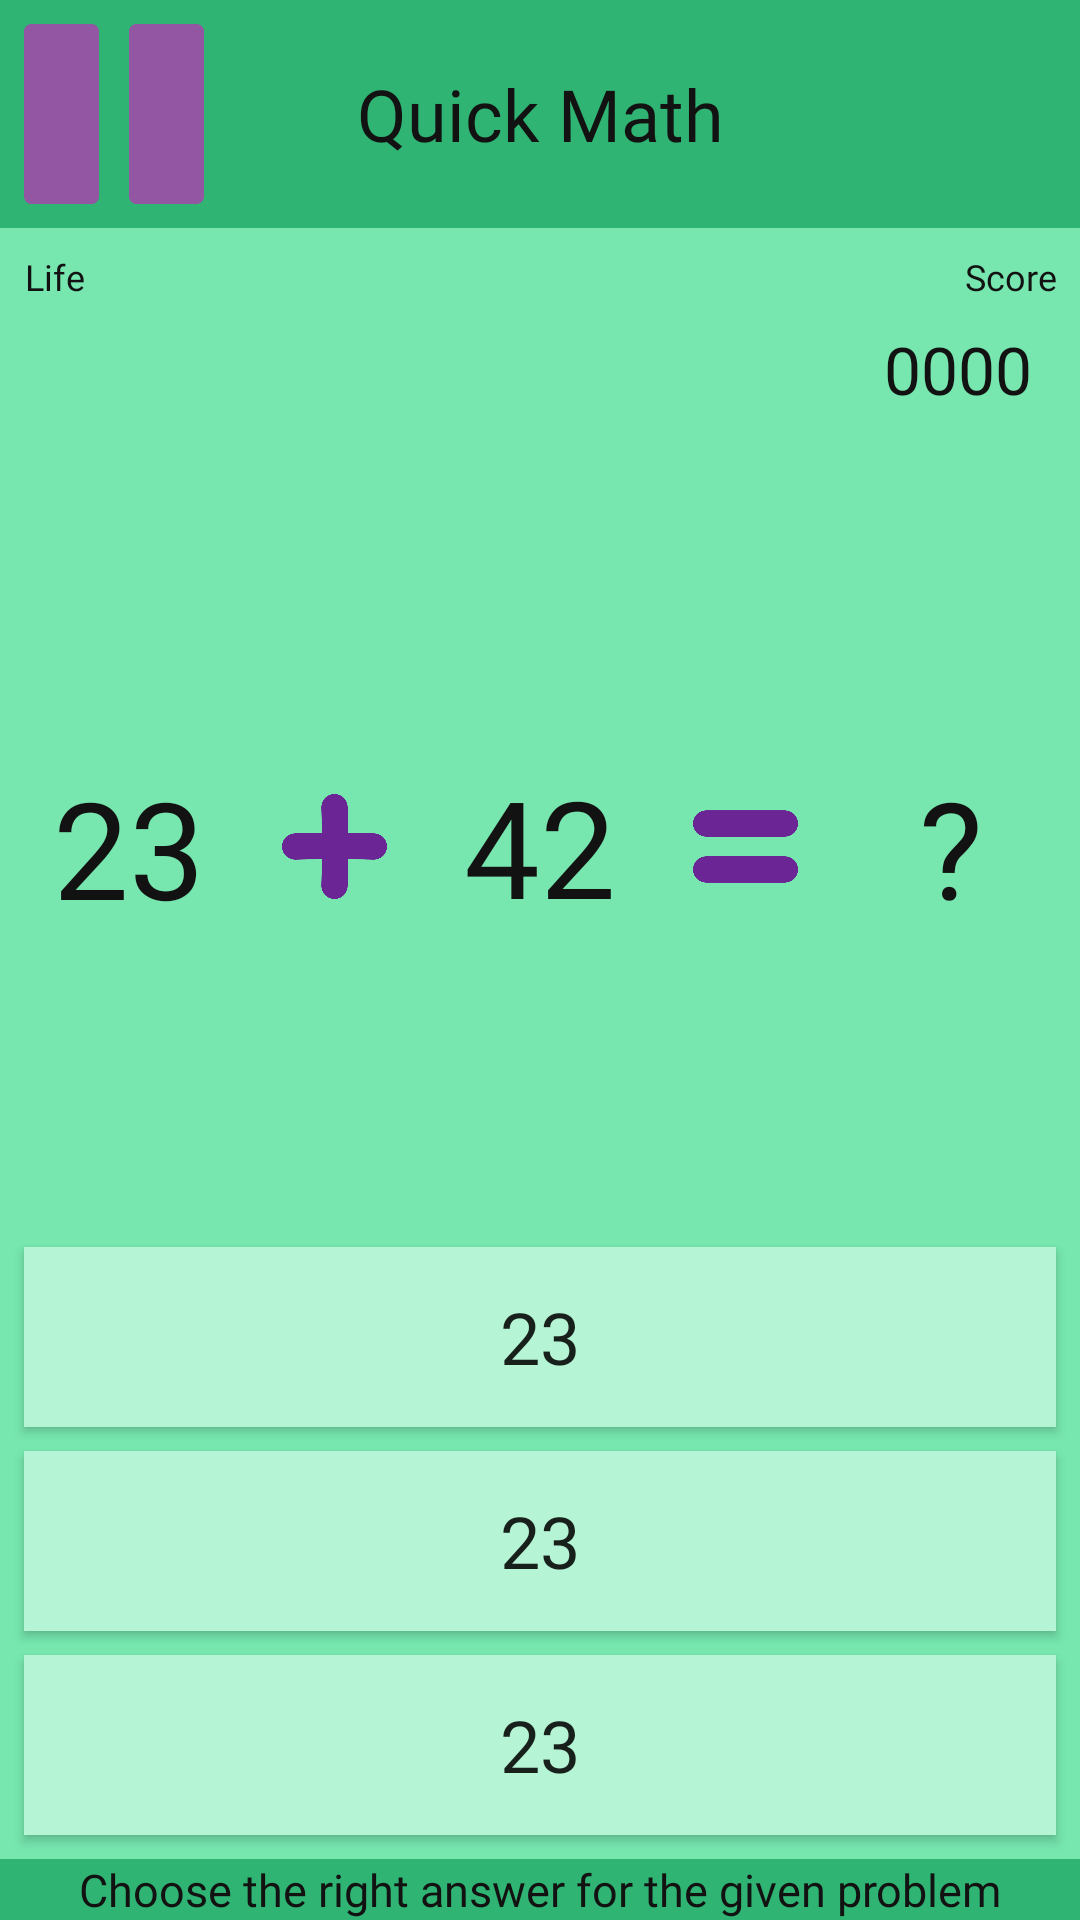

Point at icon controls on the screen. Image size 1080px x 1920px, points as (x,y).
equal: (745,846)
pause: (114,114)
plus: (334,846)
